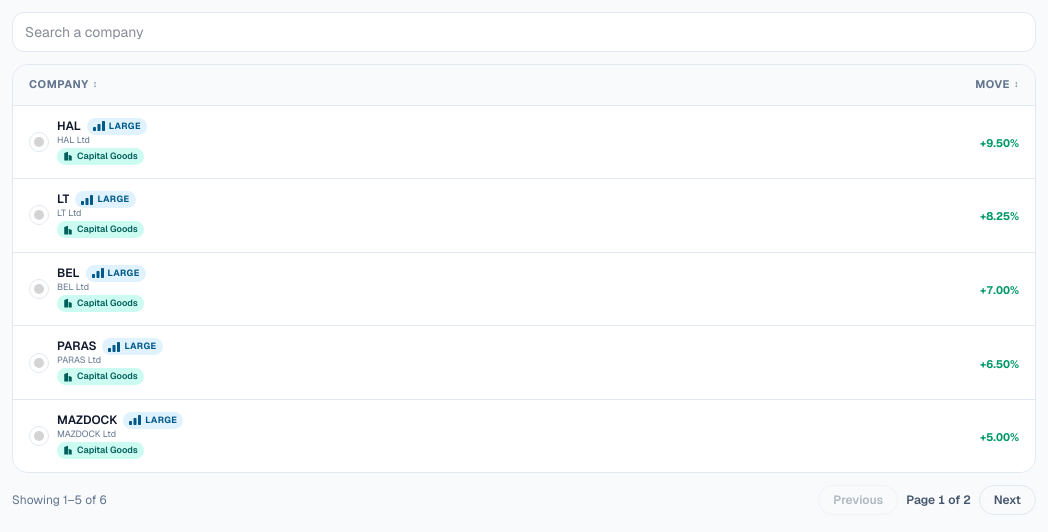
Test: MoverList › offers a search over the list
This screenshot has width=1048, height=532.
Type "MAZ" into the dropdown named "Search top gainers" at point(524, 32), box 12,12 -> 1036,52
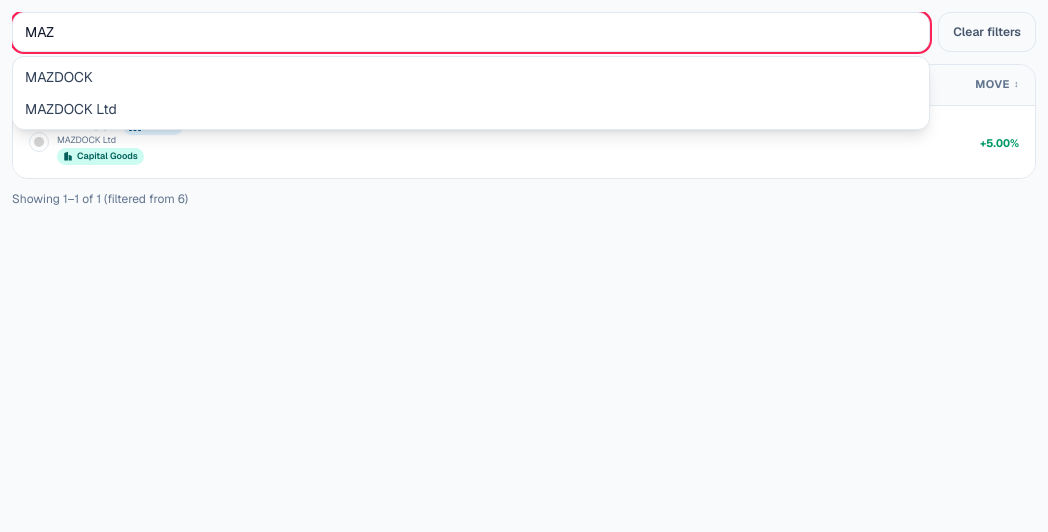
Expected: the text "MAZDOCK" is shown, 57,119 -> 117,134
Result: the button "HAL Ltd" is gone
